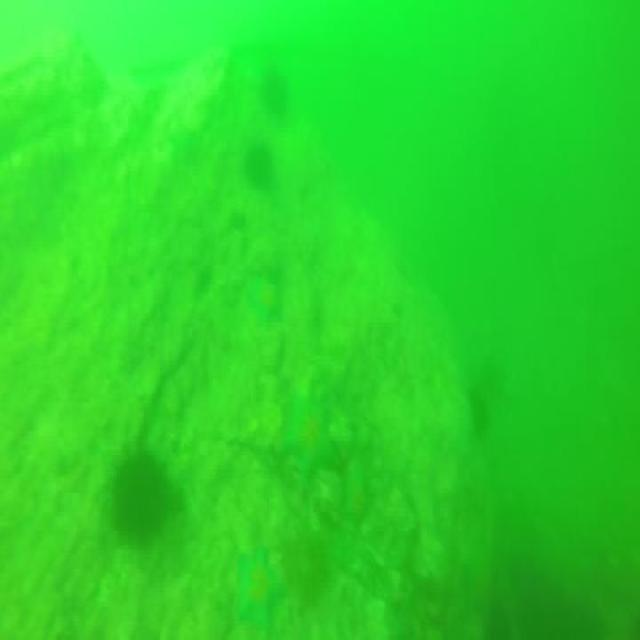echinus: (108, 453, 178, 531), (227, 552, 286, 632), (280, 400, 339, 472), (248, 138, 277, 180), (264, 68, 292, 109)
